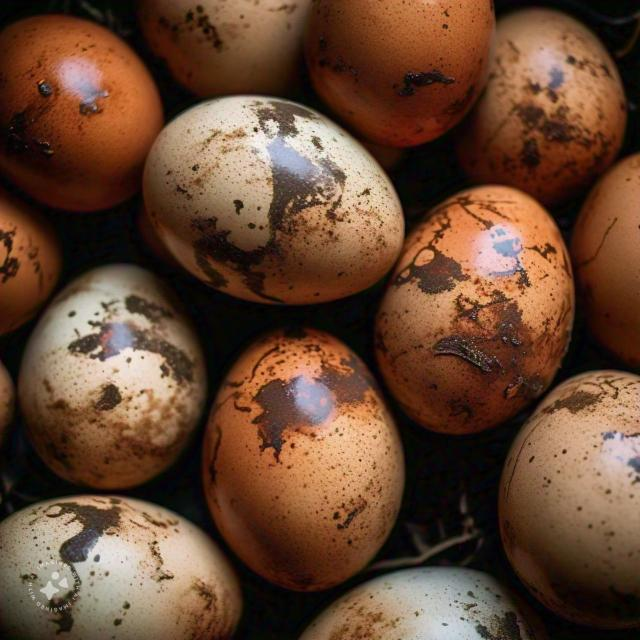Dirt Stained Egg: (22, 253, 259, 549), (193, 282, 411, 591), (366, 180, 570, 438), (481, 345, 640, 640), (138, 107, 404, 280), (0, 495, 249, 640), (292, 552, 520, 640)
